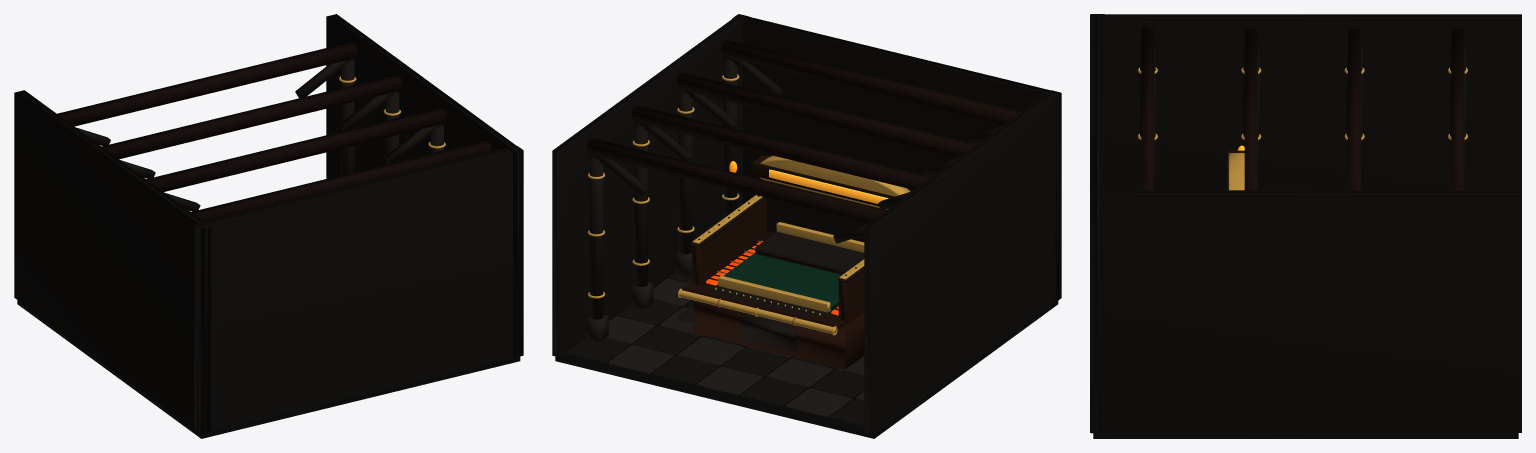
Rendered from cabinet-room.glb.
3 renders of one model, left to right at view 1: azimuth 30°, elevation 25°; view 2: azimuth 150°, elevation 25°; view 3: azimuth 270°, elevation 25°, orthographic. The views are drawn at different scales.
Parts seen in each view (by area): view 1: CryptBackStoneWall, CryptLeftStoneWall, CryptPillarsArchesAndCeilingBeams, CryptRightStoneWall, CryptStoneFloor; view 2: CryptLeftStoneWall, CryptPillarsArchesAndCeilingBeams, CryptRightStoneWall, CryptBackStoneWall, CryptFlagstoneGridAndDrains, CabinetRivetedIronTrimAndPedestal, CryptStoneFloor, TopMarqueeArch, LowerBaizeBed, RightCabinetWall, FrontControlDeckAndWristRest, UpperPusherShelf (+5 smaller); view 3: CryptRightStoneWall, CryptLeftStoneWall, CryptPillarsArchesAndCeilingBeams, CryptBackStoneWall, CryptStoneFloor, TopMarqueeArch.
Boxes of the visible parts, <box> form: CryptBackStoneWall: <box>194,146,523,434</box>; CryptLeftStoneWall: <box>14,90,211,434</box>; CryptPillarsArchesAndCeilingBeams: <box>57,42,490,222</box>; CryptRightStoneWall: <box>326,14,523,358</box>; CryptStoneFloor: <box>17,300,520,438</box>; CryptLeftStoneWall: <box>864,90,1060,434</box>; CryptPillarsArchesAndCeilingBeams: <box>585,40,1020,341</box>; CryptRightStoneWall: <box>552,14,748,358</box>; CryptBackStoneWall: <box>732,14,1061,302</box>; CryptFlagstoneGridAndDrains: <box>567,232,864,426</box>; CabinetRivetedIronTrimAndPedestal: <box>691,195,864,369</box>; CryptStoneFloor: <box>555,300,1058,438</box>; TopMarqueeArch: <box>752,155,910,209</box>; LowerBaizeBed: <box>723,253,840,311</box>; RightCabinetWall: <box>692,198,770,285</box>; FrontControlDeckAndWristRest: <box>678,283,844,335</box>; UpperPusherShelf: <box>755,231,864,274</box>; CryptRightStoneWall: <box>1090,190,1521,432</box>; CryptLeftStoneWall: <box>1090,14,1521,190</box>; CryptPillarsArchesAndCeilingBeams: <box>1137,28,1467,190</box>; CryptBackStoneWall: <box>1091,14,1104,433</box>; CryptStoneFloor: <box>1093,433,1518,438</box>; TopMarqueeArch: <box>1227,150,1244,190</box>.
Size of the model in its own units: 14.2 by 8.85 by 14.2.
